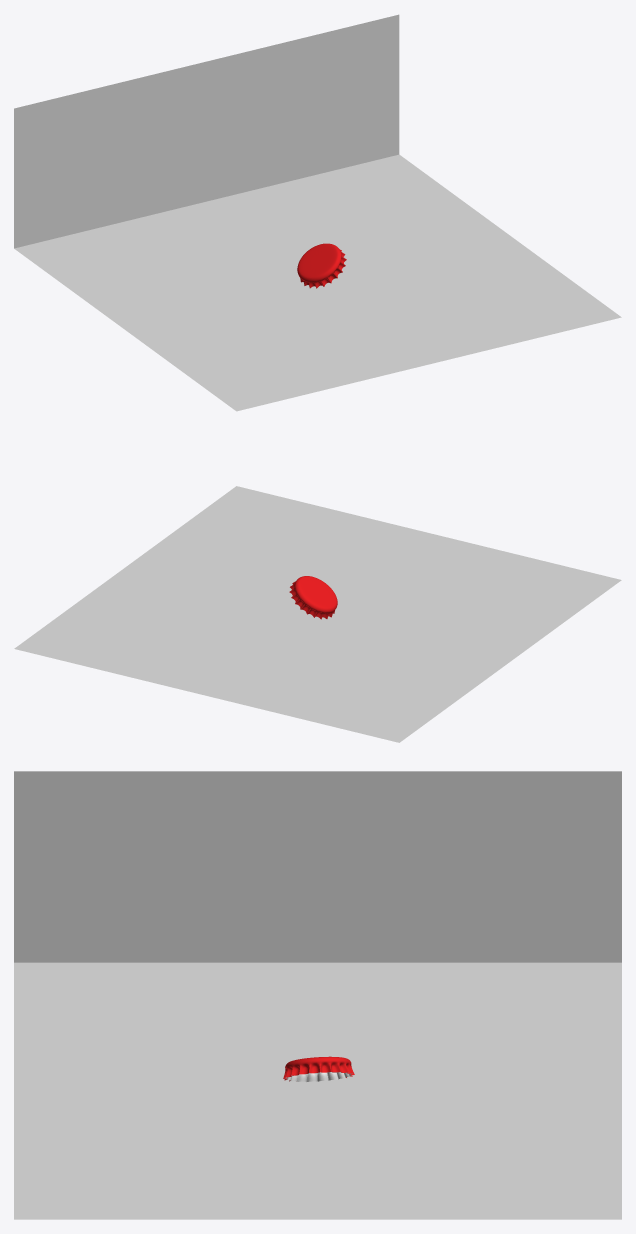
The picture shows the model from 3 angles, top to bottom: view 1: azimuth 30°, elevation 25°; view 2: azimuth 150°, elevation 25°; view 3: azimuth 270°, elevation 25°; orthographic projection. The views are drawn at different scales.
Parts seen in each view (by area): view 1: 平面, 圆环; view 2: 平面, 圆环; view 3: 平面, 圆环.
Part boxes in pixels (<box>): 平面: <box>14,14,621,411</box>; 圆环: <box>297,243,346,288</box>; 平面: <box>14,486,621,742</box>; 圆环: <box>289,576,337,619</box>; 平面: <box>14,771,621,1219</box>; 圆环: <box>283,1056,354,1082</box>.
Bounding box in the file's own units: 11.9 × 4.13 × 11.9.
